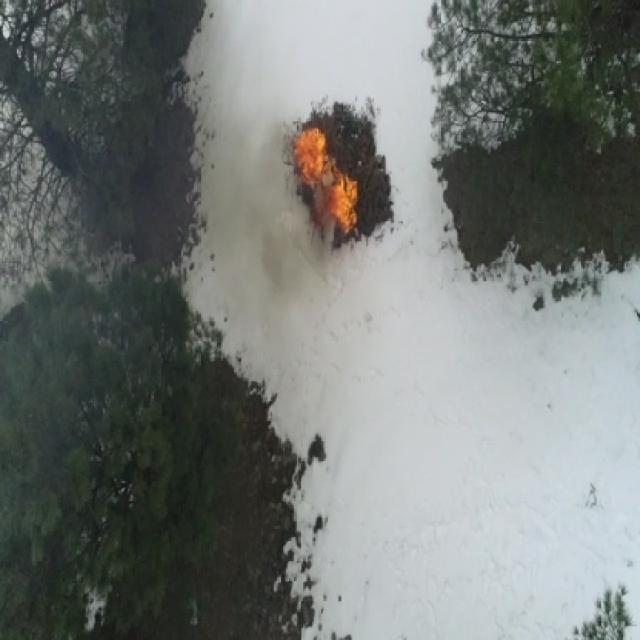Fire: (292, 128, 330, 186), (322, 174, 356, 233), (327, 158, 339, 175)
